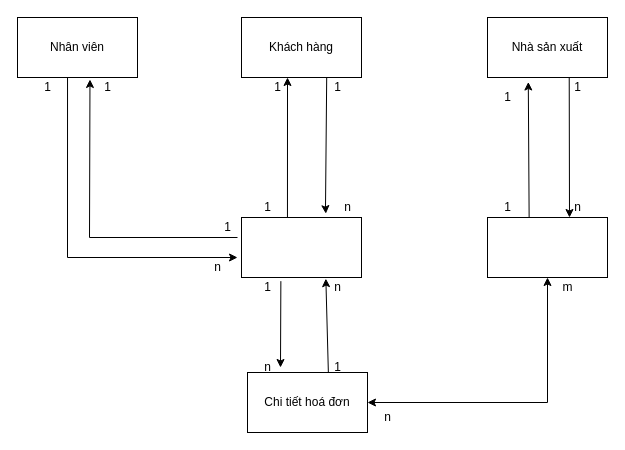
This 625x450 diagram has some shape labels left out. Here are the shapes that lost their labels. From the top down, the centre of each, then its label:
point (301, 247): Hoá đơn
point (547, 247): Sản phẩm
